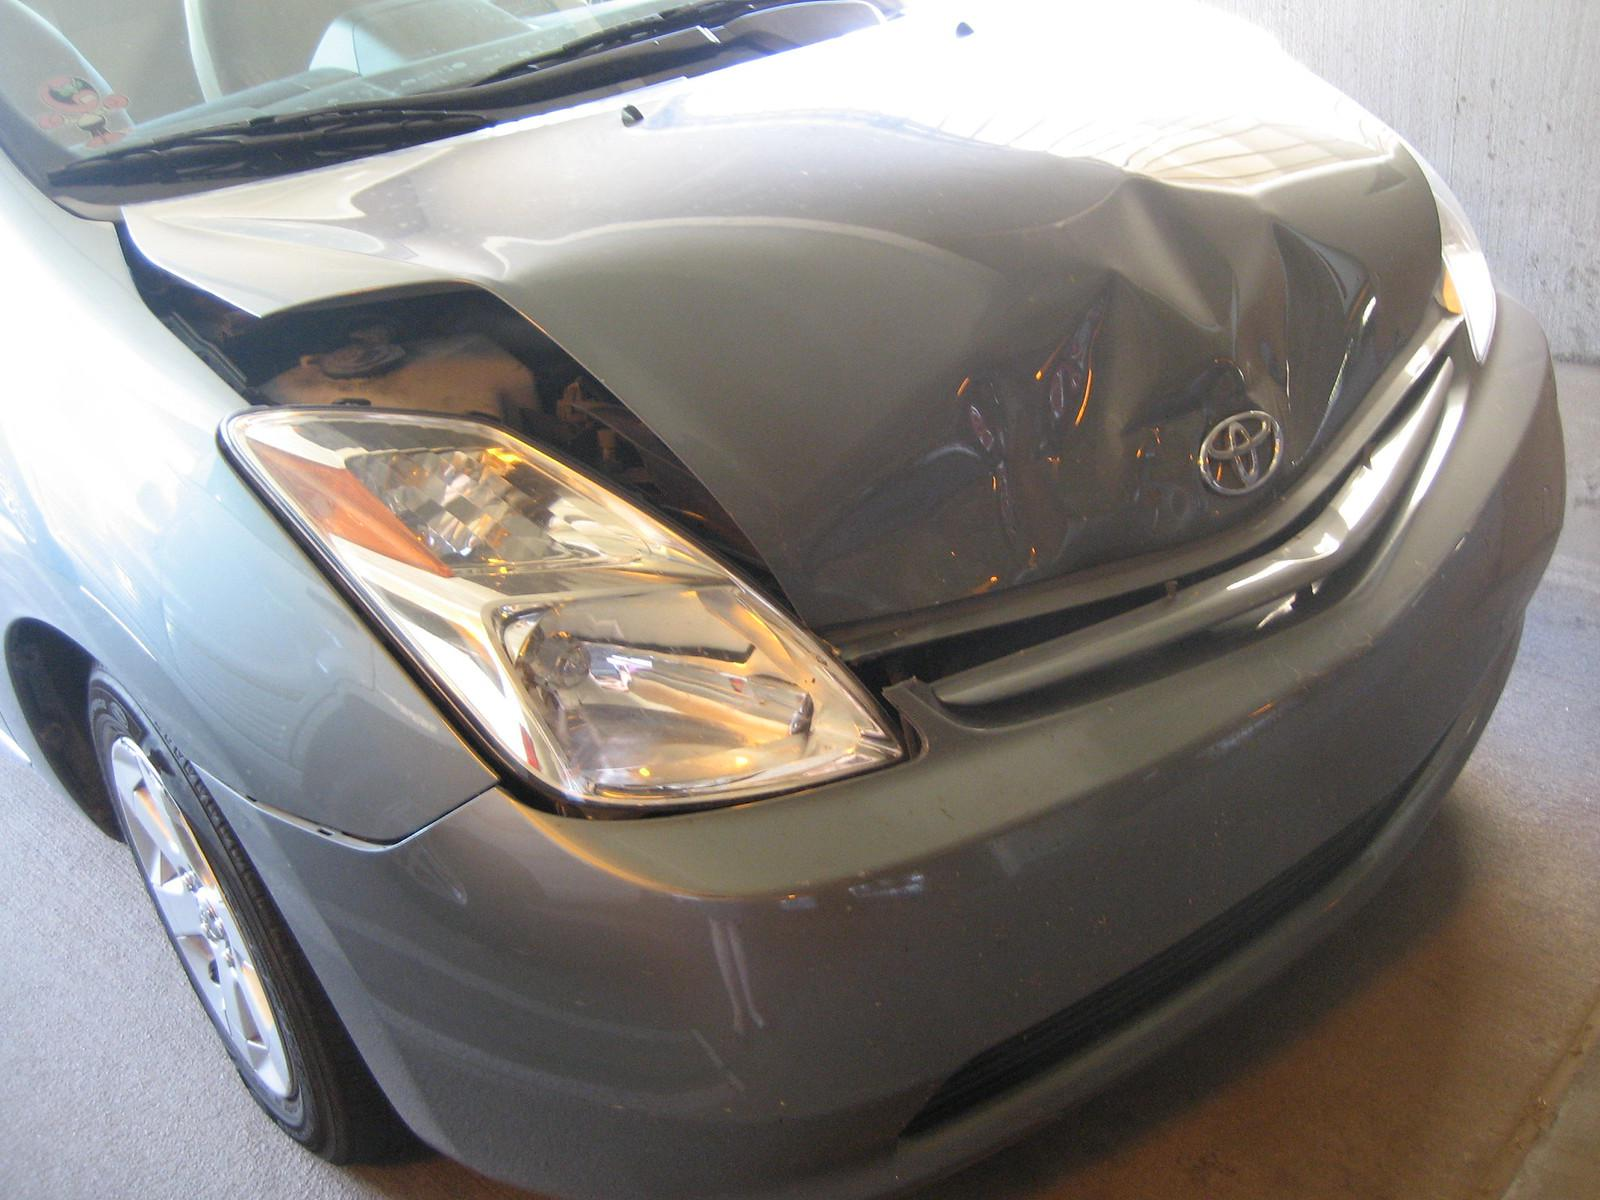bonnet-dent: (275, 24, 1533, 474)
